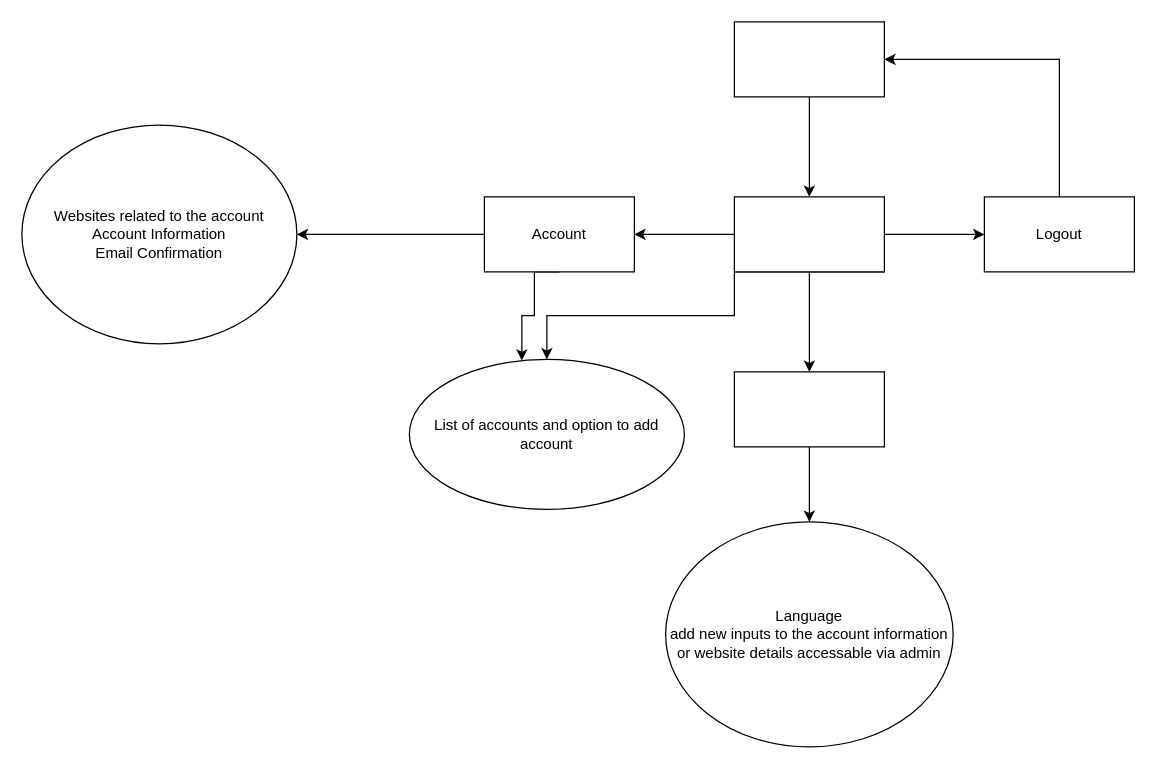
The diagram is 1156 pixels wide and 769 high, and some of its shapes have lost their labels. The centre of each missing label's shape, as x and y in pixels:
Dashboard: pixel 808 234
Login: pixel 808 59
Settings: pixel 808 409
